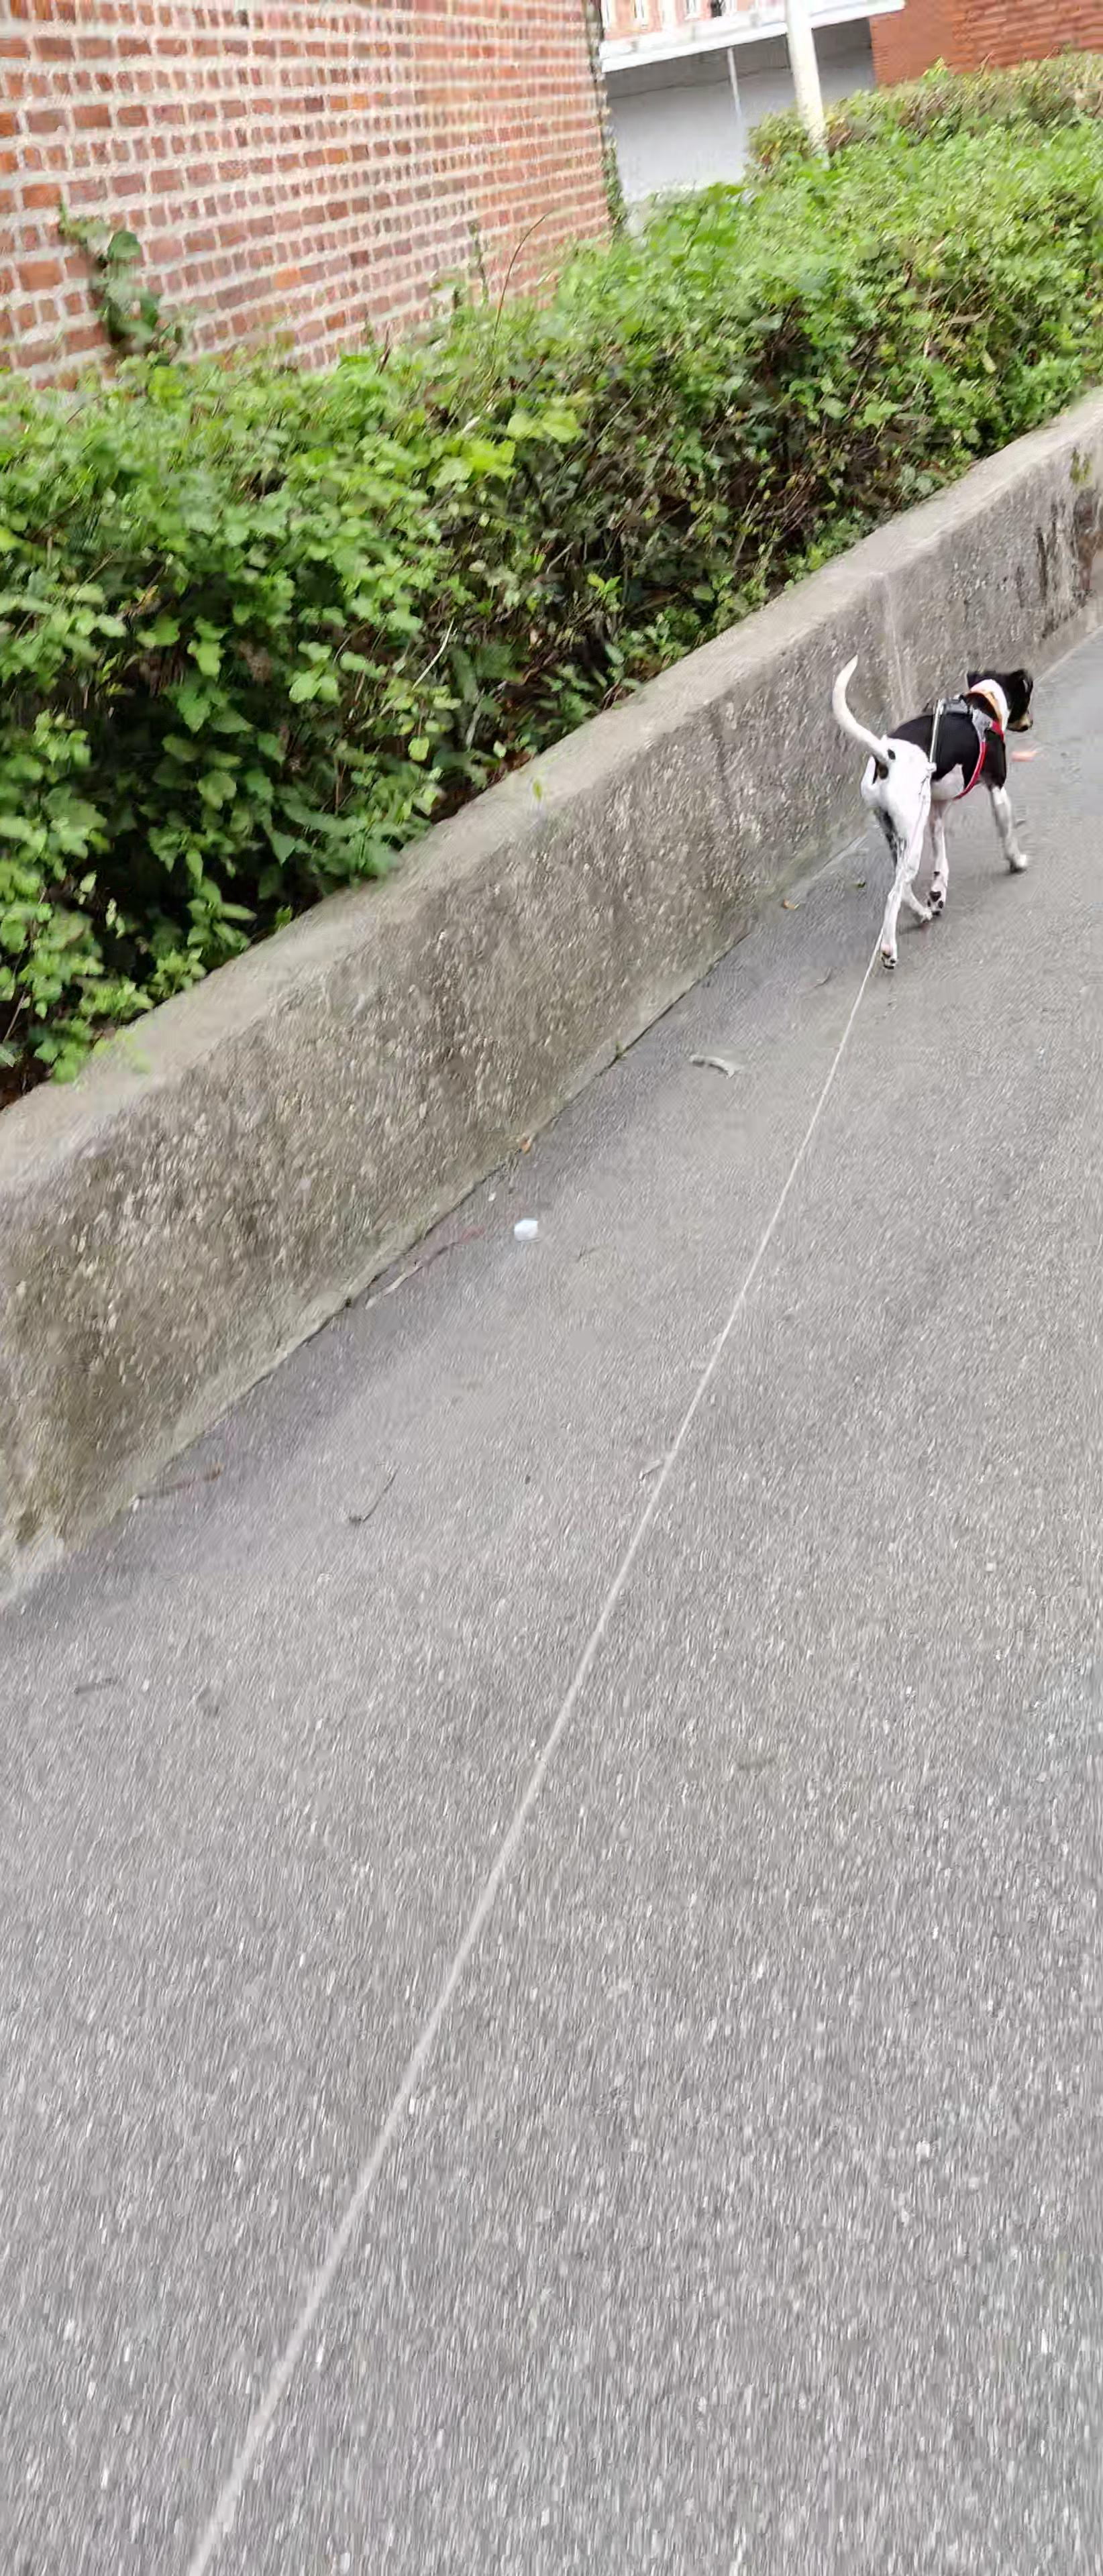Dog: (827, 651, 1039, 974)
